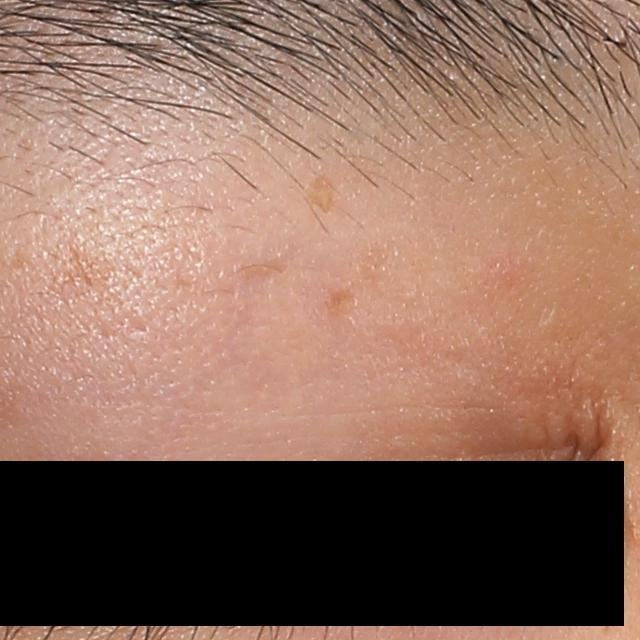melasma: (39, 243, 116, 297), (302, 171, 340, 217), (322, 286, 362, 318)
